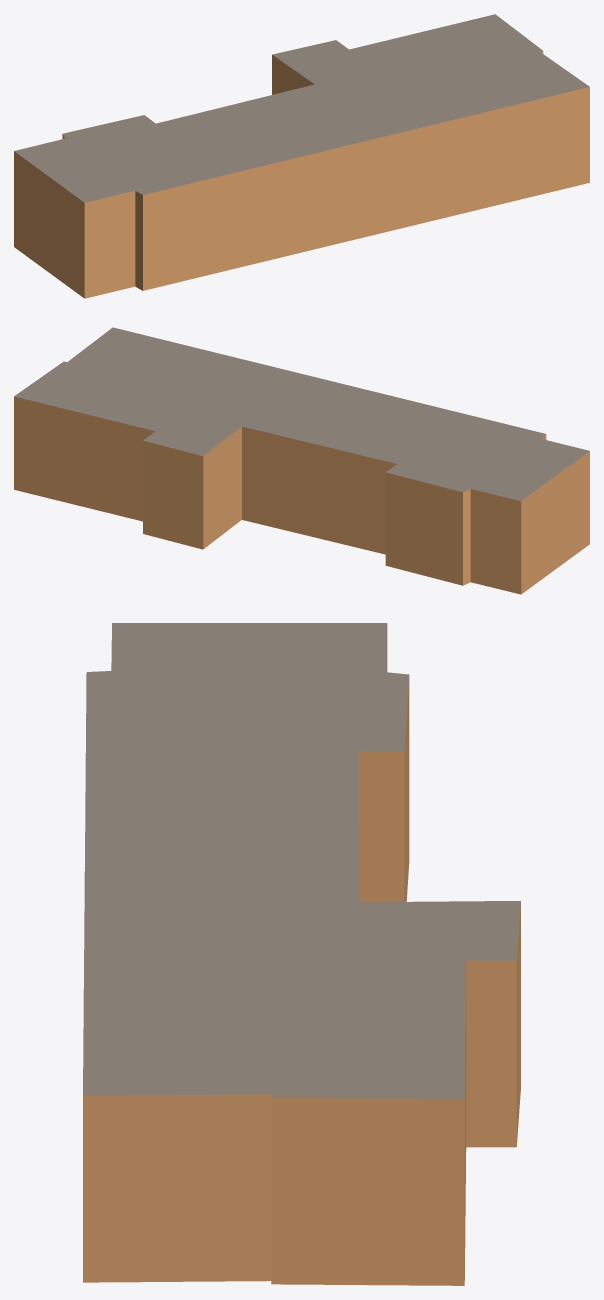
Rendered from building_test.glb.
3 renders of one model, top to bottom at view 1: azimuth 30°, elevation 25°; view 2: azimuth 150°, elevation 25°; view 3: azimuth 270°, elevation 25°, orthographic. The views are drawn at different scales.
Parts seen in each view (by area): view 1: Sacramento County Airport System Fire Department.001; view 2: Sacramento County Airport System Fire Department.001; view 3: Sacramento County Airport System Fire Department.001.
Part boxes in pixels (x1,y1,x2,y2): Sacramento County Airport System Fire Department.001: (14,14,589,298); Sacramento County Airport System Fire Department.001: (14,327,589,594); Sacramento County Airport System Fire Department.001: (83,623,520,1285).
Size of the model in its own units: 87.79 by 16.06 by 34.14.
